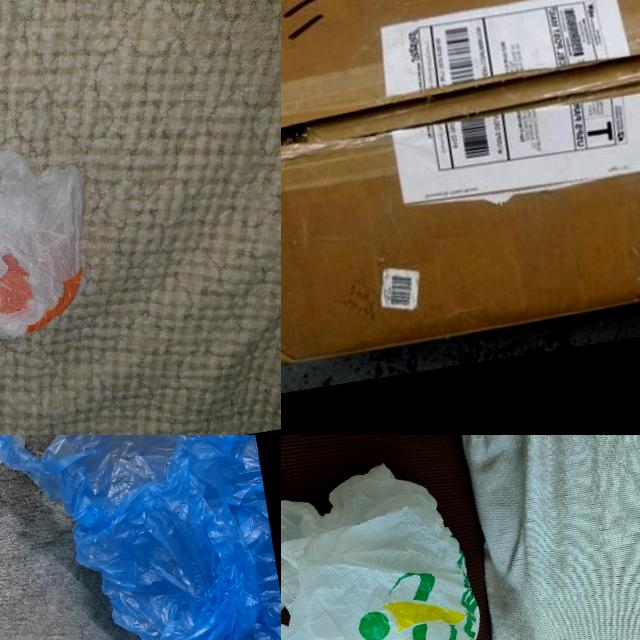papelão: (281, 0, 640, 373)
sacola plástica: (0, 435, 281, 640), (281, 450, 498, 640), (0, 119, 109, 389), (0, 564, 262, 640)
